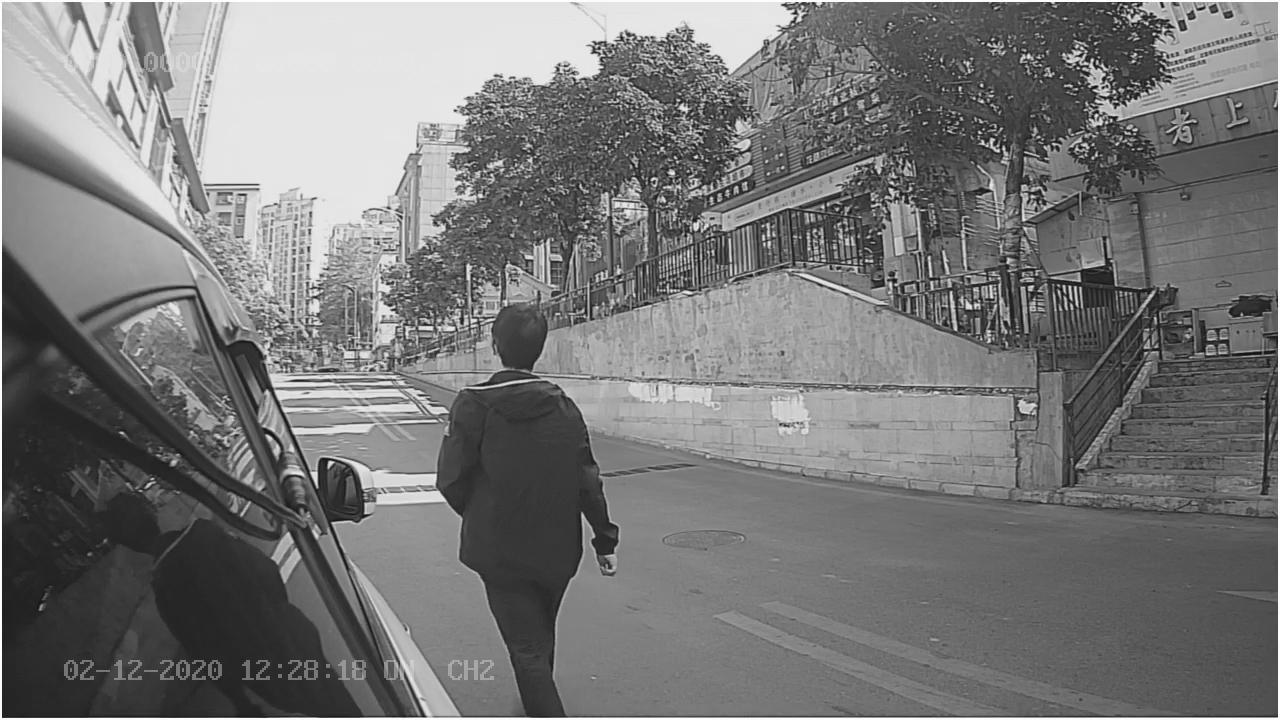person: (424, 299, 625, 587)
